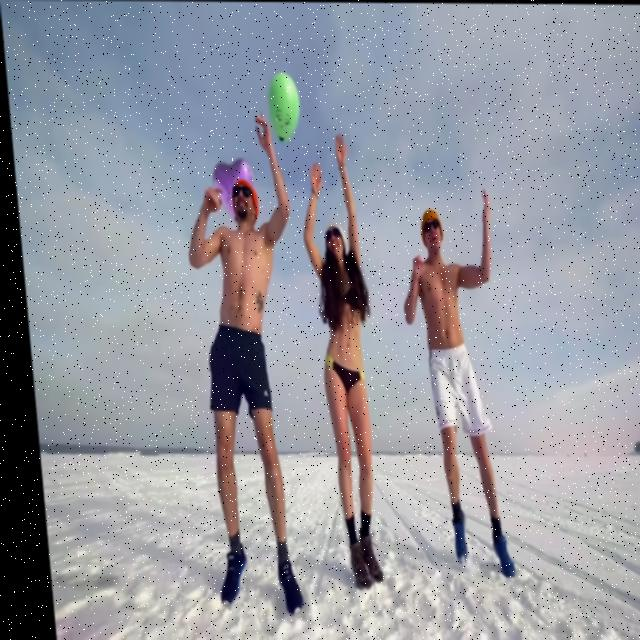balloon: (266, 70, 304, 142), (205, 158, 253, 213)
